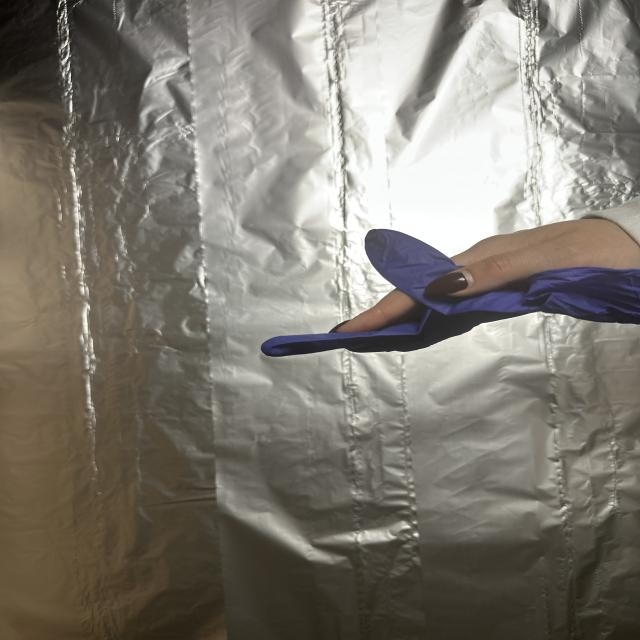glove_not_fitted: (259, 214, 640, 360)
